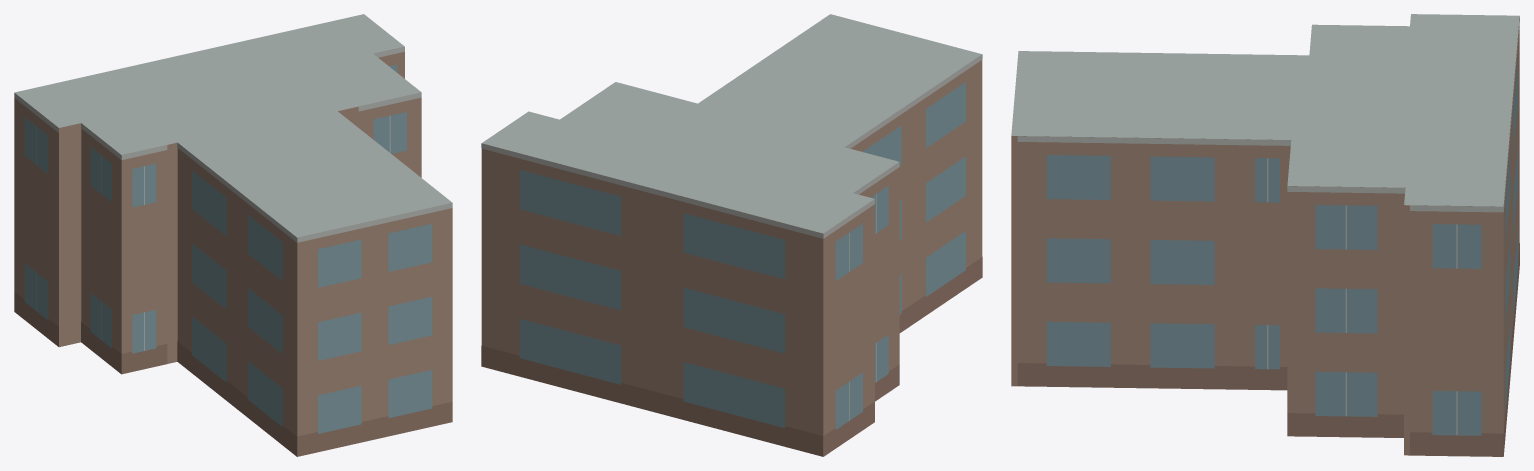
The model's file is survey-upis-32936410.glb.
3 renders of one model, left to right at view 1: azimuth 30°, elevation 25°; view 2: azimuth 150°, elevation 25°; view 3: azimuth 270°, elevation 25°, orthographic. The views are drawn at different scales.
Visible parts, largest first — view 1: survey-upis-32936410.tmp; view 2: survey-upis-32936410.tmp; view 3: survey-upis-32936410.tmp.
Boxes of the visible parts, box(x1,y1,x2,y2) form: survey-upis-32936410.tmp: box(14, 14, 452, 456); survey-upis-32936410.tmp: box(481, 14, 982, 456); survey-upis-32936410.tmp: box(1011, 14, 1519, 456).
Bounding box in the file's own units: 17.17 × 10.4 × 19.16.
